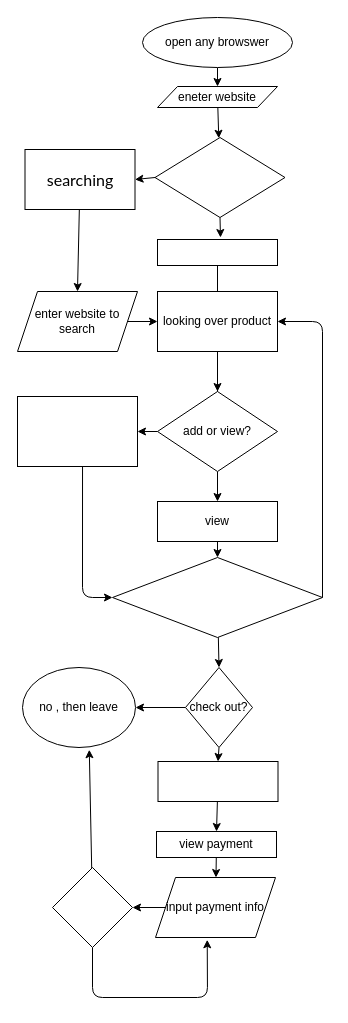
The diagram is 348 pixels wide and 1023 high, and some of its shapes have lost their labels. Each missing label, with the centre of its shape:
add to cart: the point at 77,431
confirm: the point at 92,907
continue looking?: the point at 217,597
exploring: the point at 217,252
searching or exploring: the point at 219,177
yes, then view Cart: the point at 217,781
